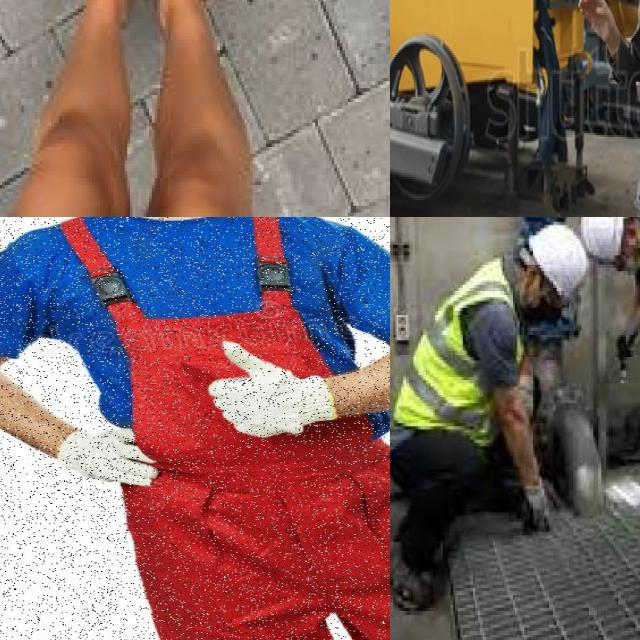person: (0, 217, 390, 640), (587, 0, 640, 217)
